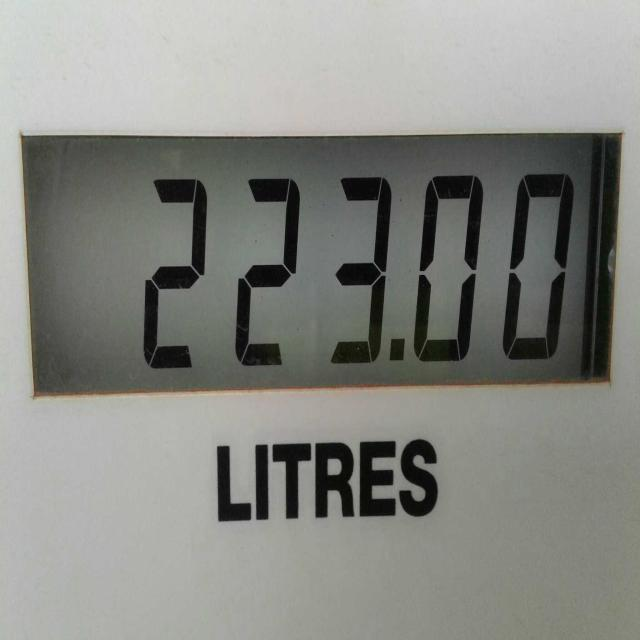.: (318, 159, 388, 365), (382, 323, 409, 378)
0: (499, 159, 583, 364), (408, 155, 481, 375)
2: (124, 166, 215, 375), (226, 159, 306, 372)
